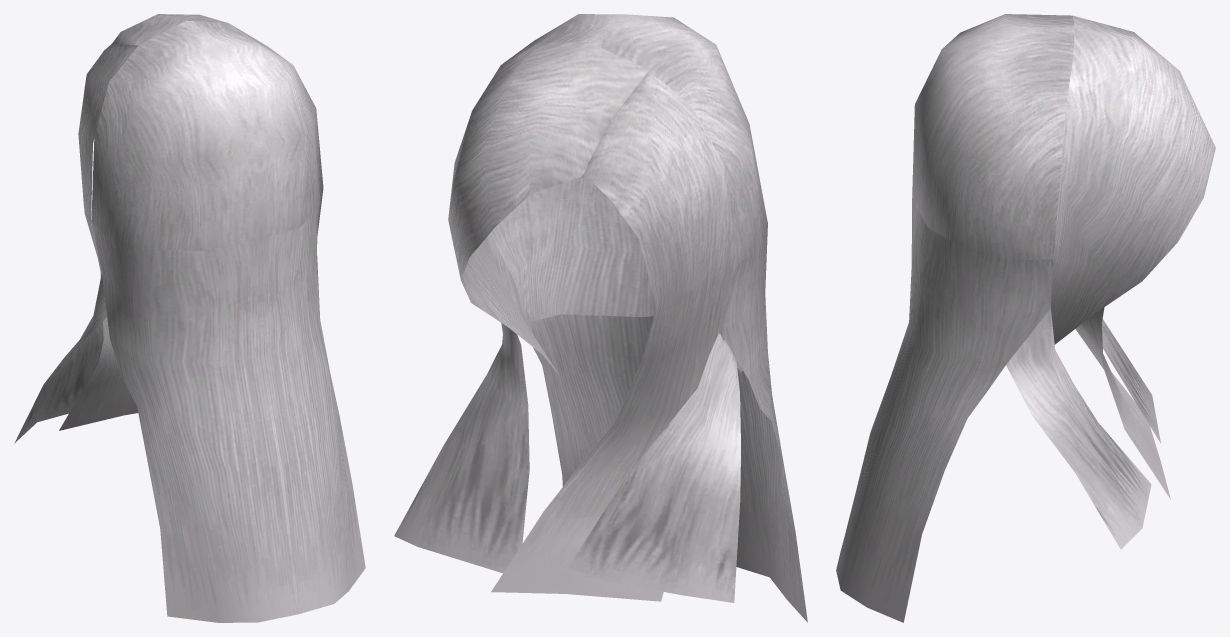
File: Wizard female hair 14.glb
The picture shows the model from 3 angles, left to right: view 1: azimuth 30°, elevation 25°; view 2: azimuth 150°, elevation 25°; view 3: azimuth 270°, elevation 25°; orthographic projection. The views are drawn at different scales.
Visible parts, largest first — view 1: 0004_0; view 2: 0004_0; view 3: 0004_0.
Boxes of the visible parts, x1,y1,x2,y2 form: 0004_0: [14, 14, 365, 622]; 0004_0: [394, 14, 807, 622]; 0004_0: [836, 14, 1215, 622].
Size of the model in its own units: 0.2209 by 0.382 by 0.2407.
1 material, 1 textured.
